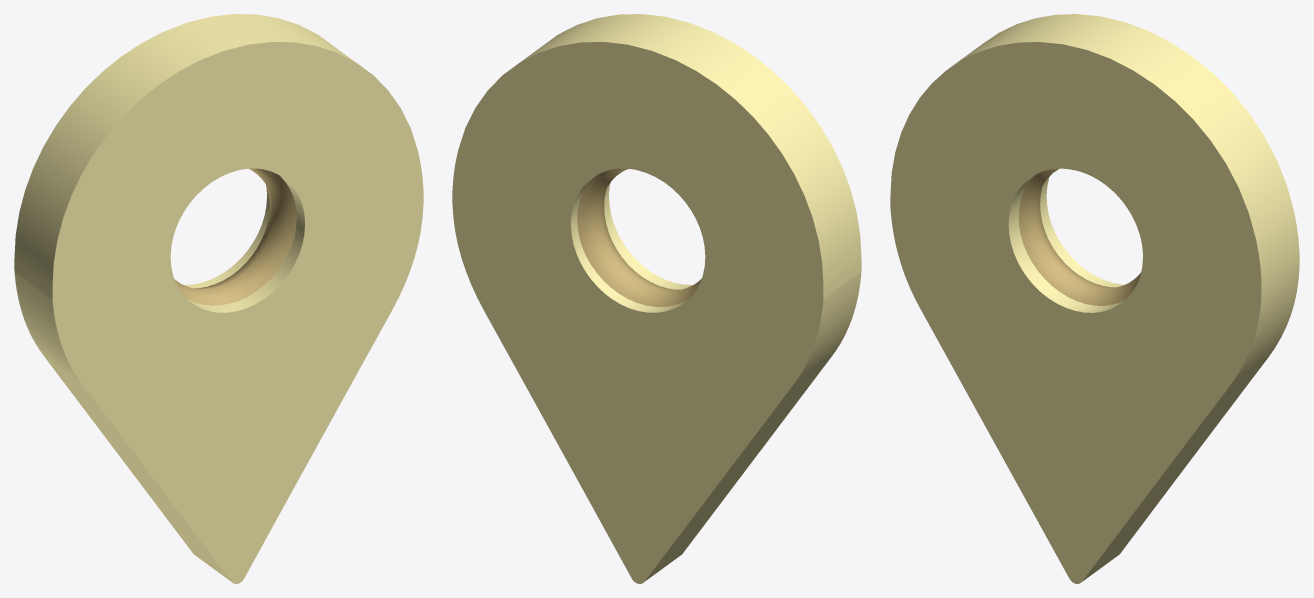
File: map_pin.glb
3 renders of one model, left to right at view 1: azimuth 30°, elevation 25°; view 2: azimuth 150°, elevation 25°; view 3: azimuth 330°, elevation 25°, orthographic.
Parts seen in each view (by area): view 1: Curve, Torus; view 2: Curve, Torus; view 3: Curve, Torus.
Boxes of the visible parts, x1,y1,x2,y2 form: Curve: (14, 14, 423, 583); Torus: (174, 168, 296, 305); Curve: (452, 14, 861, 583); Torus: (577, 168, 701, 306); Curve: (890, 14, 1299, 583); Torus: (1018, 168, 1140, 305).
Bounding box in the file's own units: 1.18 × 1.63 × 0.21.
